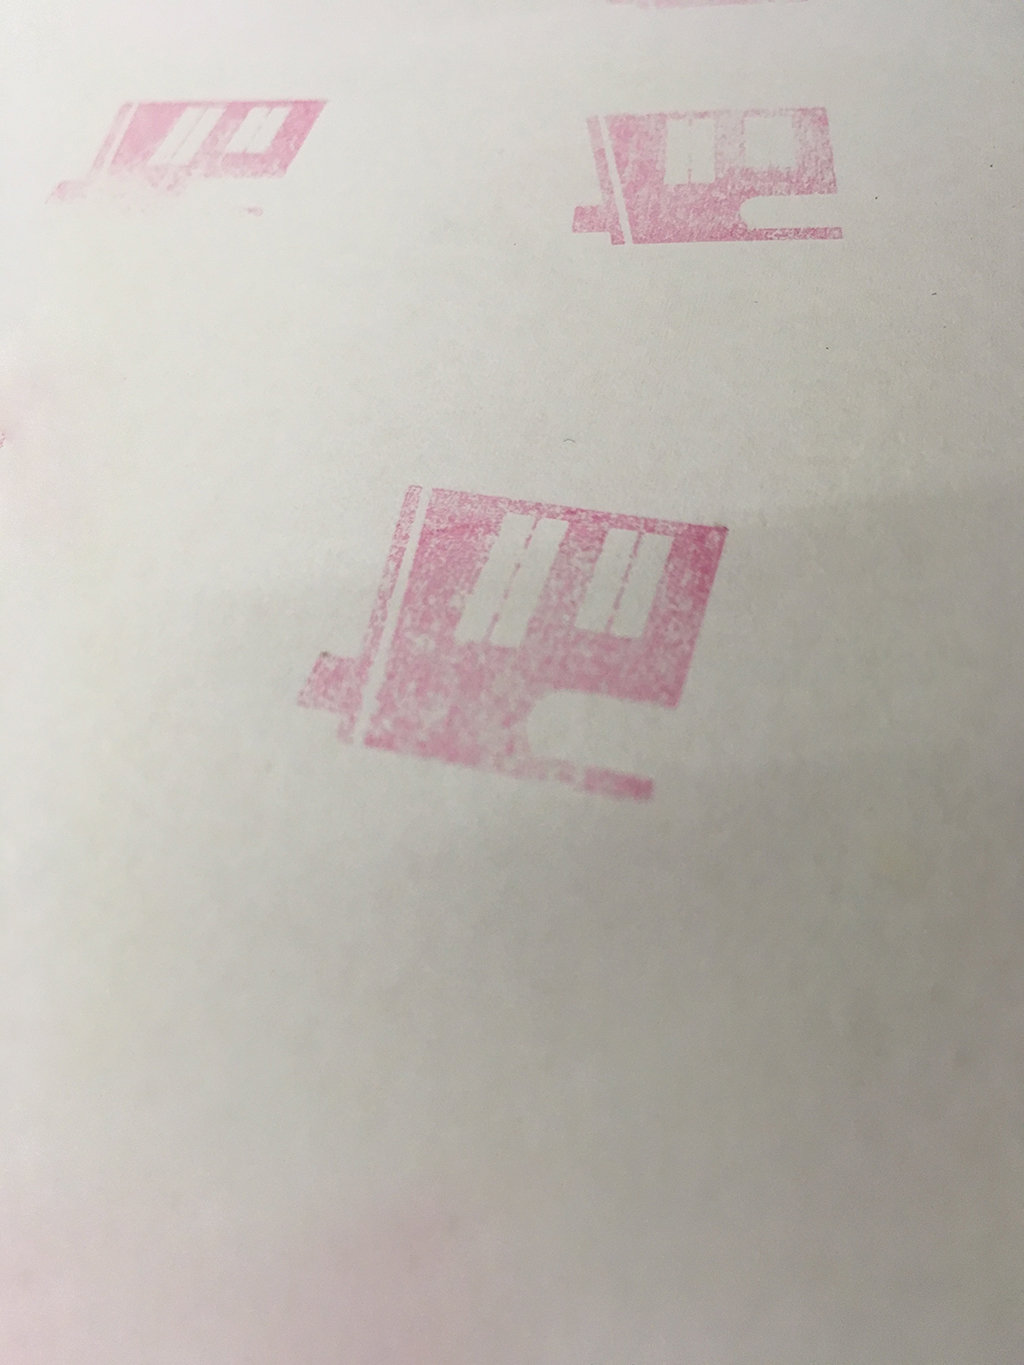house: (268, 465, 758, 831), (40, 69, 354, 243), (563, 93, 868, 264)
